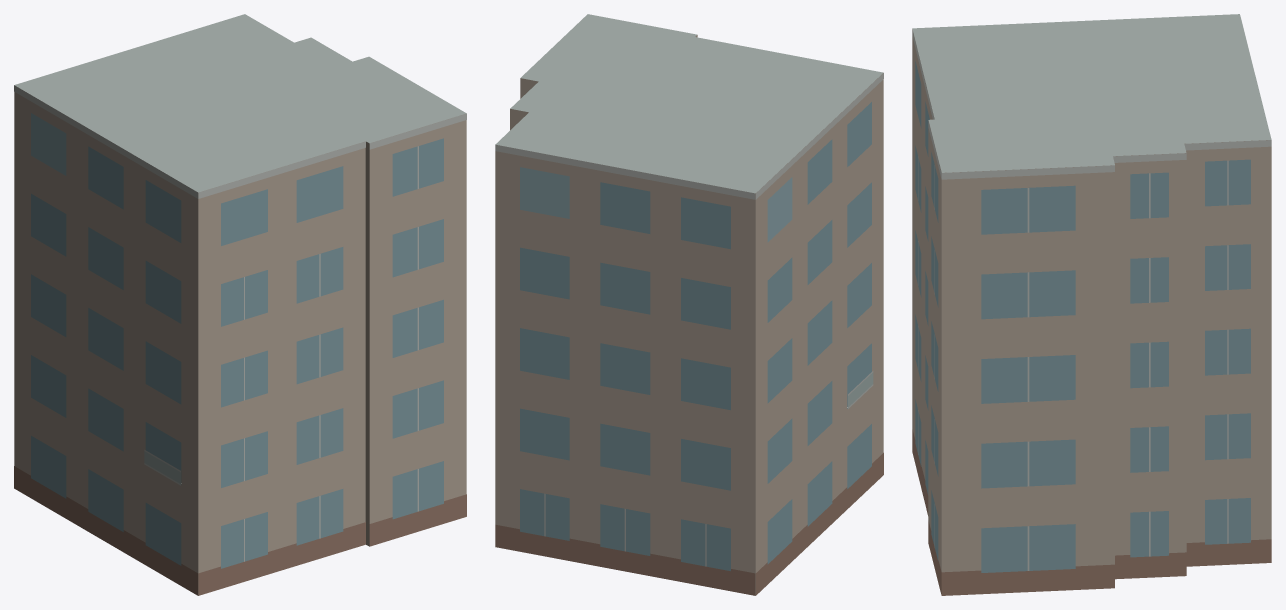
File: survey-upis-32628336.glb
3 renders of one model, left to right at view 1: azimuth 30°, elevation 25°; view 2: azimuth 150°, elevation 25°; view 3: azimuth 270°, elevation 25°, orthographic. The views are drawn at different scales.
Parts seen in each view (by area): view 1: survey-upis-32628336.tmp; view 2: survey-upis-32628336.tmp; view 3: survey-upis-32628336.tmp.
Part boxes in pixels (left/top/right/bottom): survey-upis-32628336.tmp: left=14, top=14, right=466, bottom=595; survey-upis-32628336.tmp: left=495, top=14, right=883, bottom=595; survey-upis-32628336.tmp: left=912, top=14, right=1271, bottom=595.
Size of the model in its own units: 12.22 by 15.15 by 11.67.
